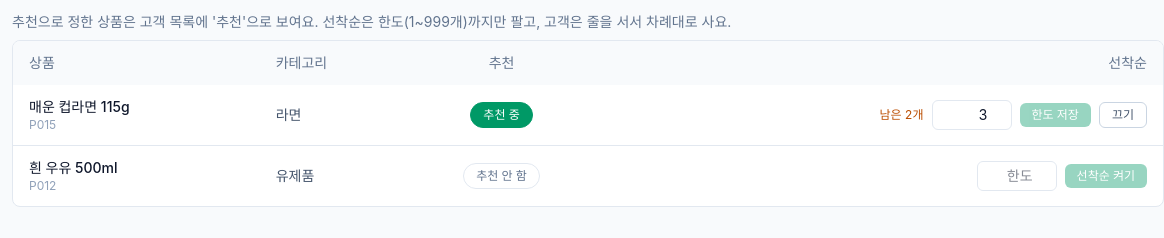
Test: 추천·선착순 설정 › 한도가 1~999 정수가 아니면 안내하고 저장할 수 없다
The image size is (1164, 238).
Type "0" into the number field named "흰 우유 500ml 선착순 한도". click: (1017, 176)
box: [977,161,1057,191]
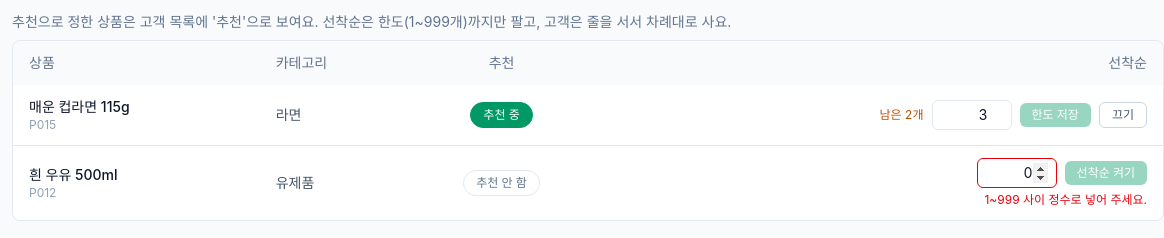
Expected: the button "선착순 켜기" is disabled, [1065,161,1147,185]
Now the text "1~999 사이 정수로 넣어 주세요." is shown, box [984,192,1147,207]
